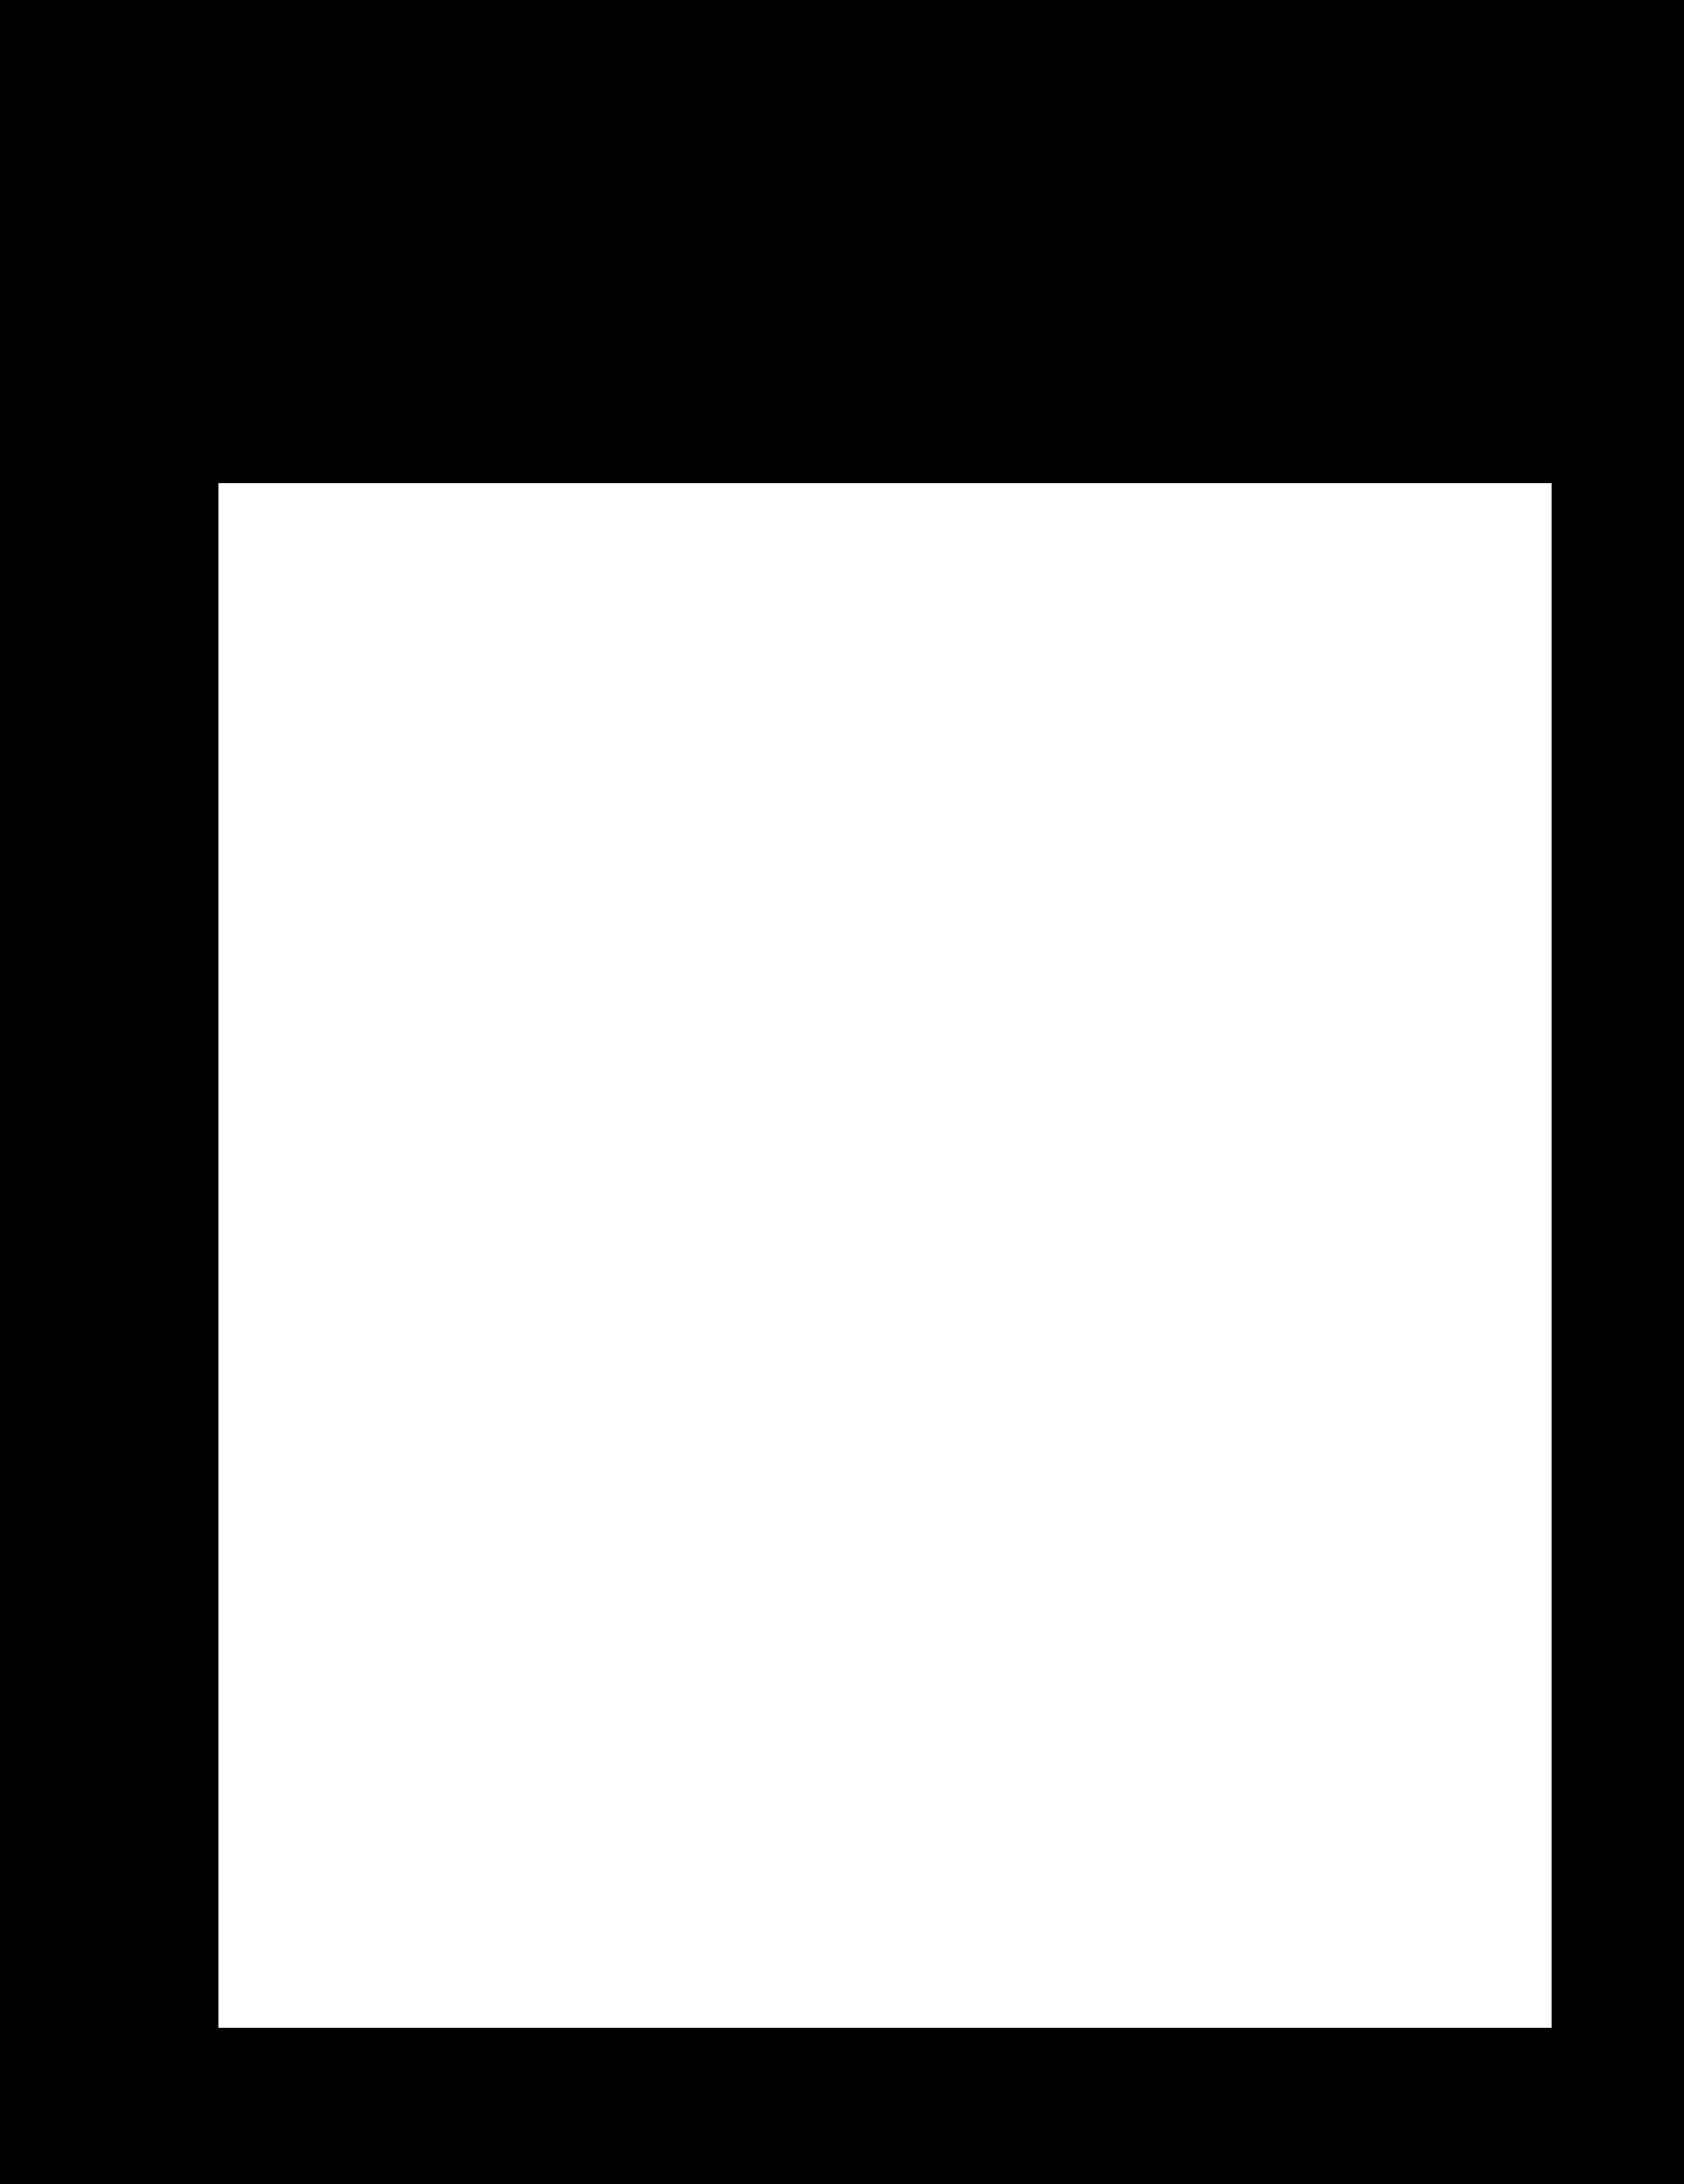table: (218, 483, 1551, 2027)
